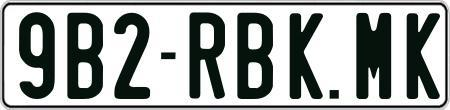2: (113, 11, 150, 99)
9: (16, 11, 56, 101)
B: (64, 13, 105, 104), (237, 12, 278, 101)
K: (289, 13, 326, 103), (406, 10, 436, 102)
M: (355, 10, 393, 96)
R: (187, 10, 227, 100)
